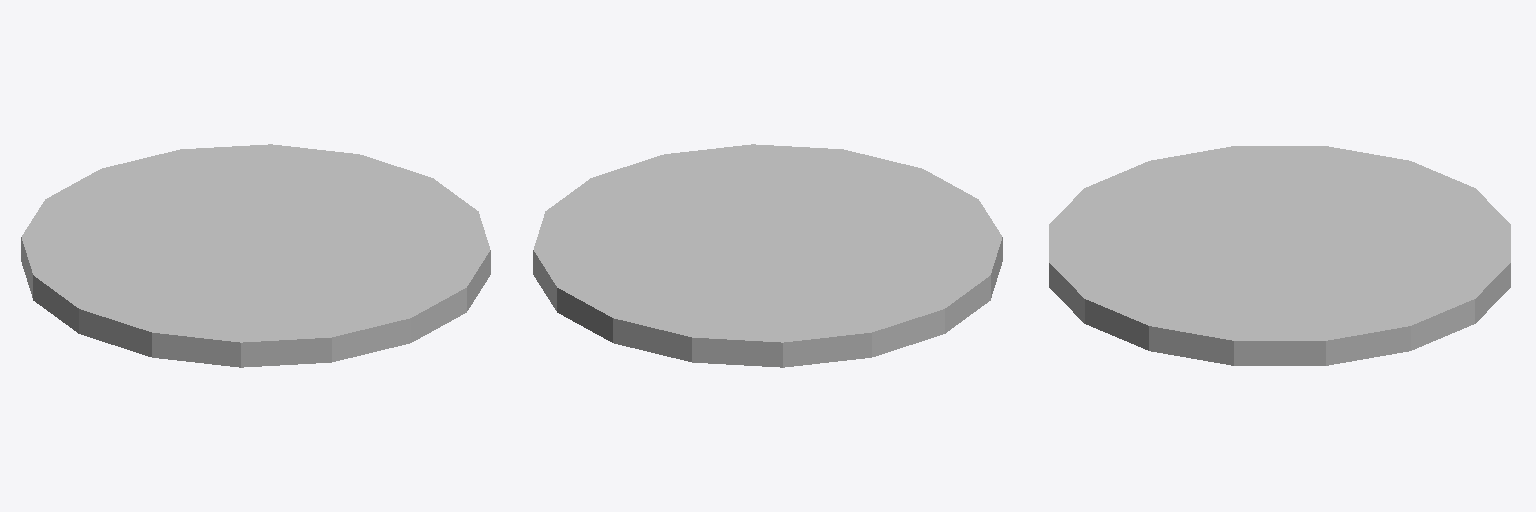
Rendered from Arrow_Control_A_Collider.obj.
3 views of the same model, side by side, from view 1: azimuth 30°, elevation 25°; view 2: azimuth 150°, elevation 25°; view 3: azimuth 270°, elevation 25° (orthographic).
Parts seen in each view (by area): view 1: Arrow_Control_A_Collider; view 2: Arrow_Control_A_Collider; view 3: Arrow_Control_A_Collider.
Boxes of the visible parts, x1,y1,x2,y2 form: Arrow_Control_A_Collider: [21, 144, 490, 367]; Arrow_Control_A_Collider: [533, 144, 1002, 367]; Arrow_Control_A_Collider: [1049, 146, 1510, 365].
Size of the model in its own units: 1.25 by 0.075 by 1.25.